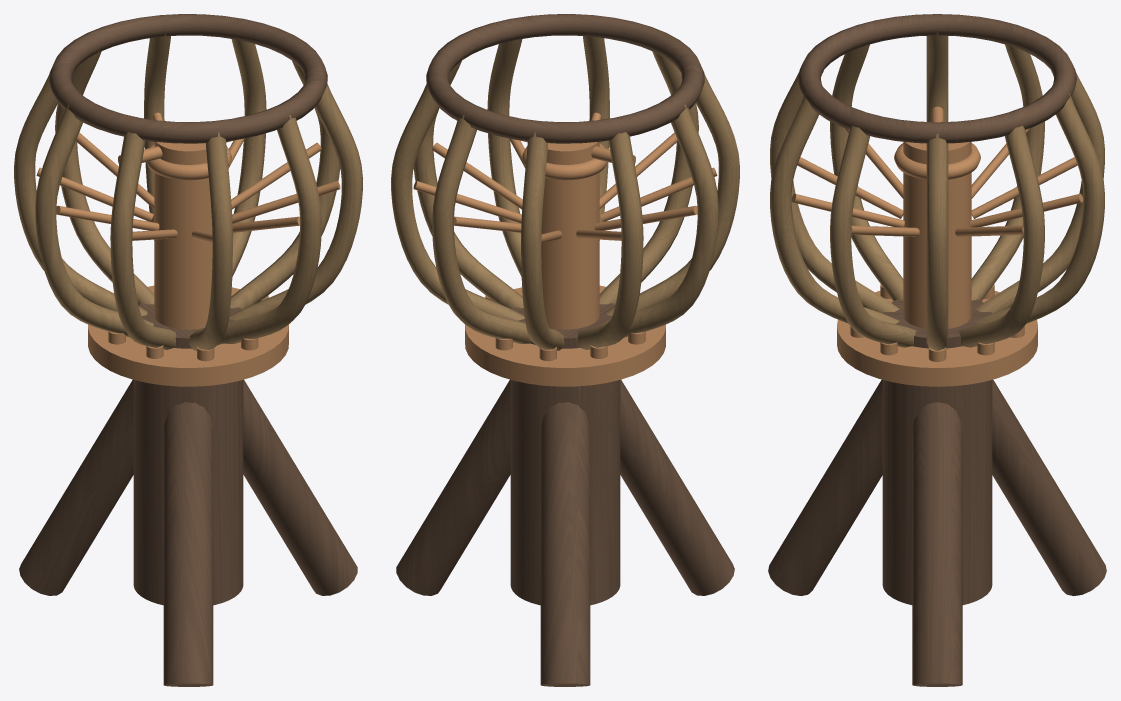
Rendered from bellroot-fen-floodward-marches-basket-forming-buck-63034cef__32909.glb.
3 renders of one model, left to right at view 1: azimuth 30°, elevation 25°; view 2: azimuth 150°, elevation 25°; view 3: azimuth 270°, elevation 25°, orthographic.
Parts seen in each view (by area): view 1: basket-forming-buck; view 2: basket-forming-buck; view 3: basket-forming-buck.
Boxes of the visible parts, bbox=[...] form: basket-forming-buck: bbox=[14, 14, 362, 686]; basket-forming-buck: bbox=[391, 14, 739, 686]; basket-forming-buck: bbox=[768, 14, 1106, 686].
Bounding box in the file's own units: 0.8024 × 1.34 × 0.7405.
Materials: 3 (2 with a texture image).
